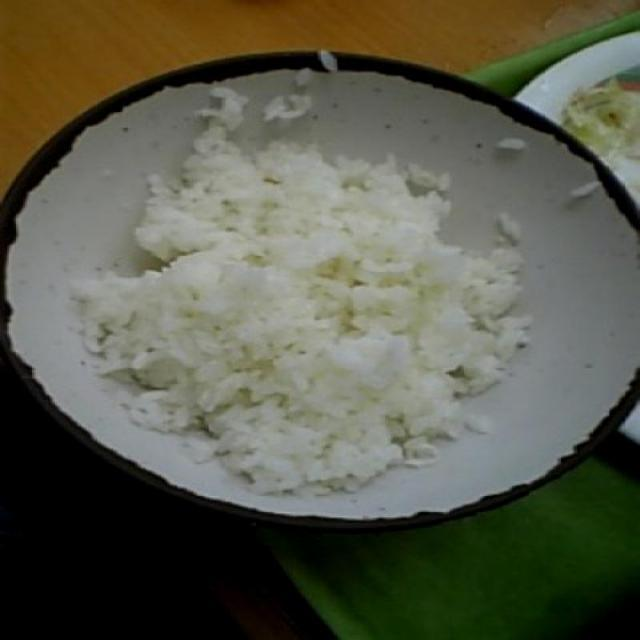rice: (81, 129, 536, 502)
